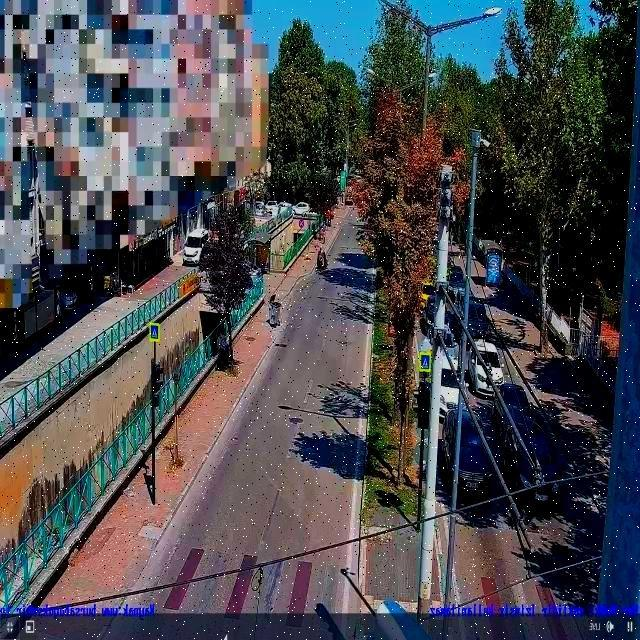Car: (509, 421, 567, 509), (445, 408, 497, 491), (467, 338, 506, 399), (495, 383, 535, 434), (182, 229, 206, 265), (290, 200, 310, 216)
